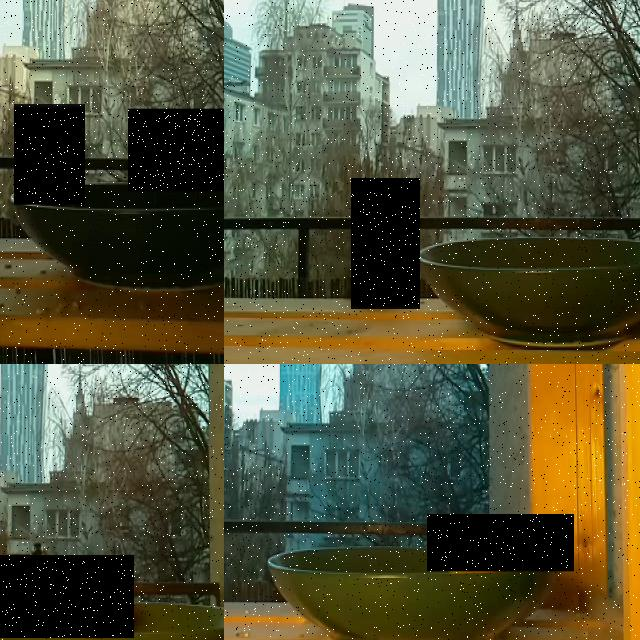Bogatka: (0, 555, 134, 637)
Modraszka: (427, 514, 574, 571)
Wrobel: (351, 178, 420, 309), (128, 108, 224, 191), (14, 104, 85, 204)
